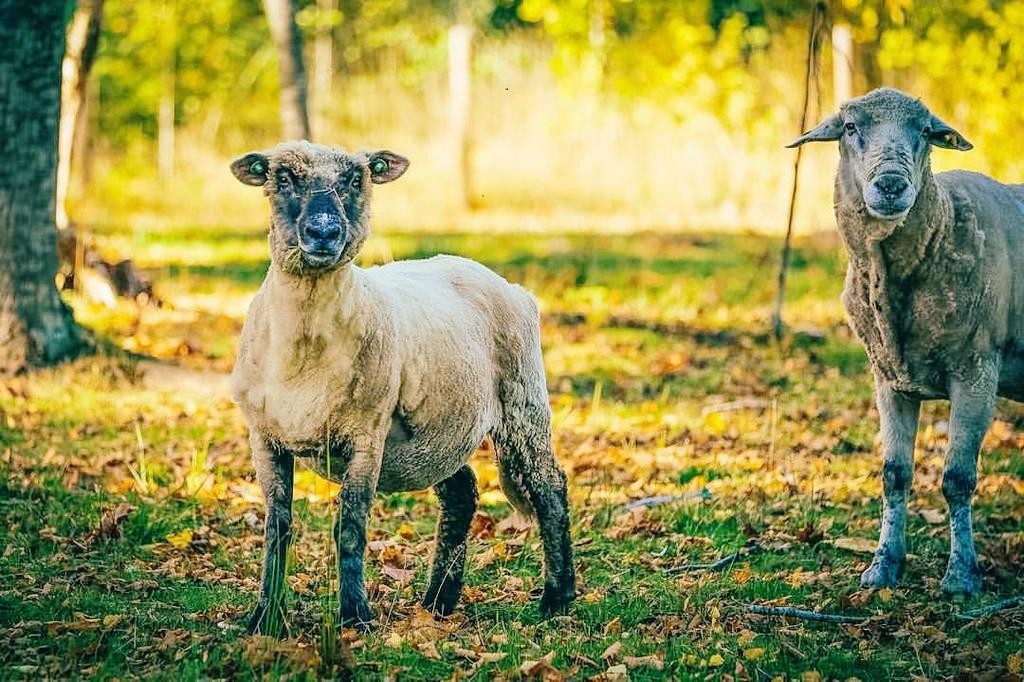Sheep: (228, 133, 582, 632), (783, 82, 1023, 602)
